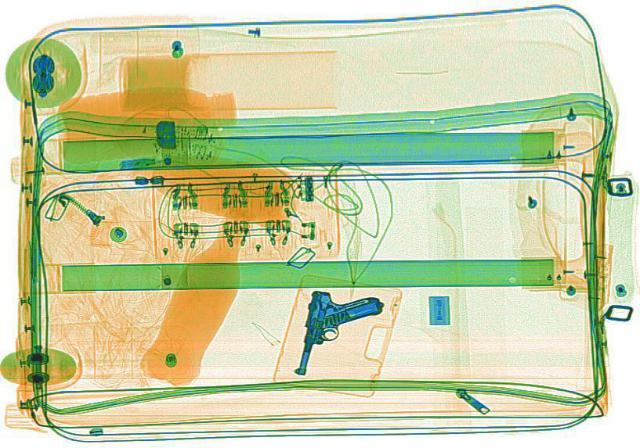Gun: (292, 288, 384, 379)
